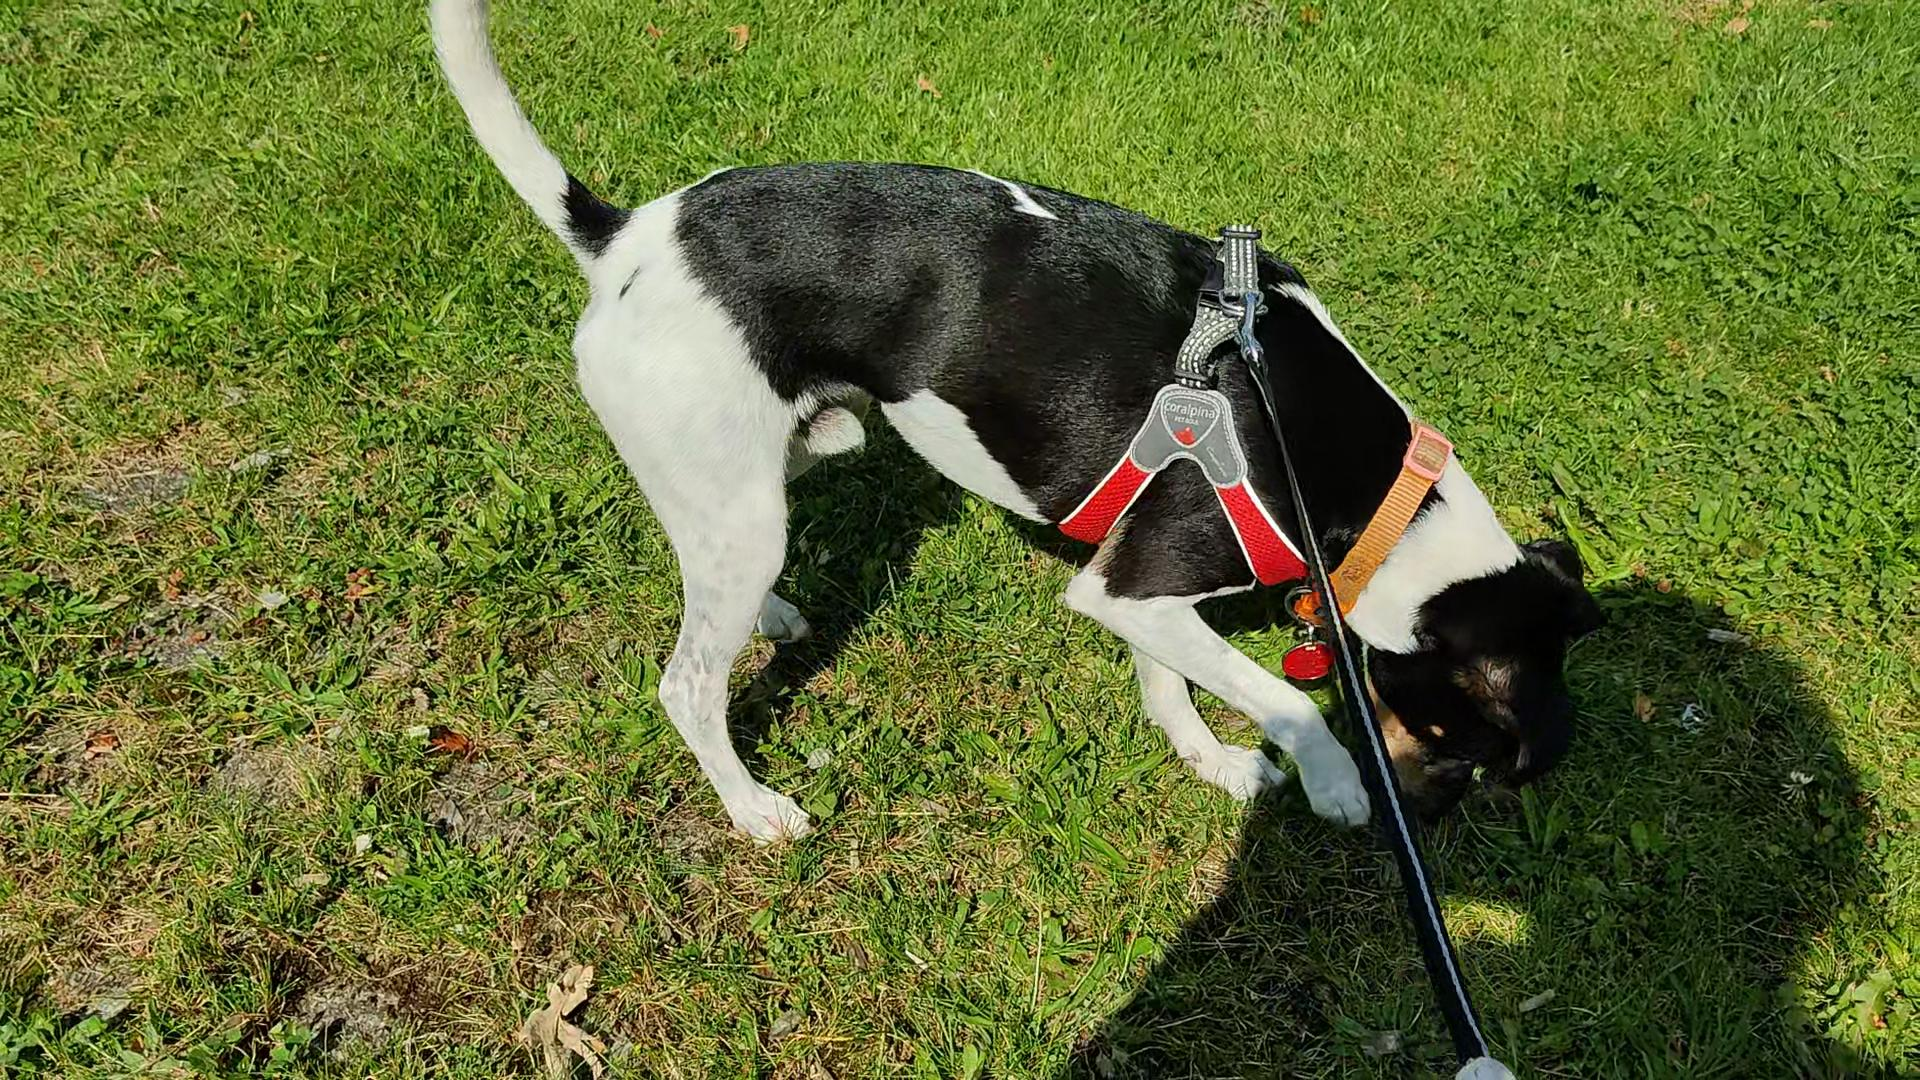Dog: (414, 0, 1622, 857)
